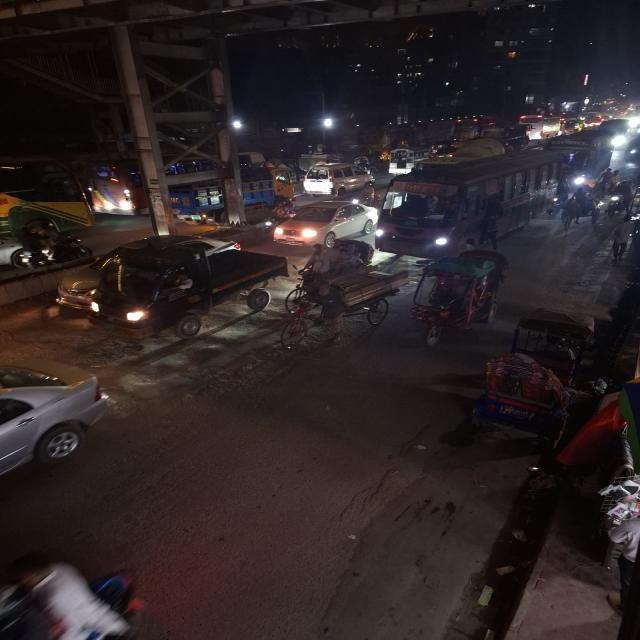bus: (375, 146, 578, 258), (88, 165, 140, 222)
car: (0, 357, 116, 483), (272, 199, 372, 247), (302, 162, 373, 196)
human_hauler: (387, 145, 417, 175)
motorcycle: (1, 550, 154, 640)
pedestrian: (606, 228, 629, 264)
pickup_van: (83, 232, 276, 339)
rickshaw: (470, 314, 620, 444), (280, 262, 403, 354), (407, 247, 514, 348), (170, 167, 295, 217)
